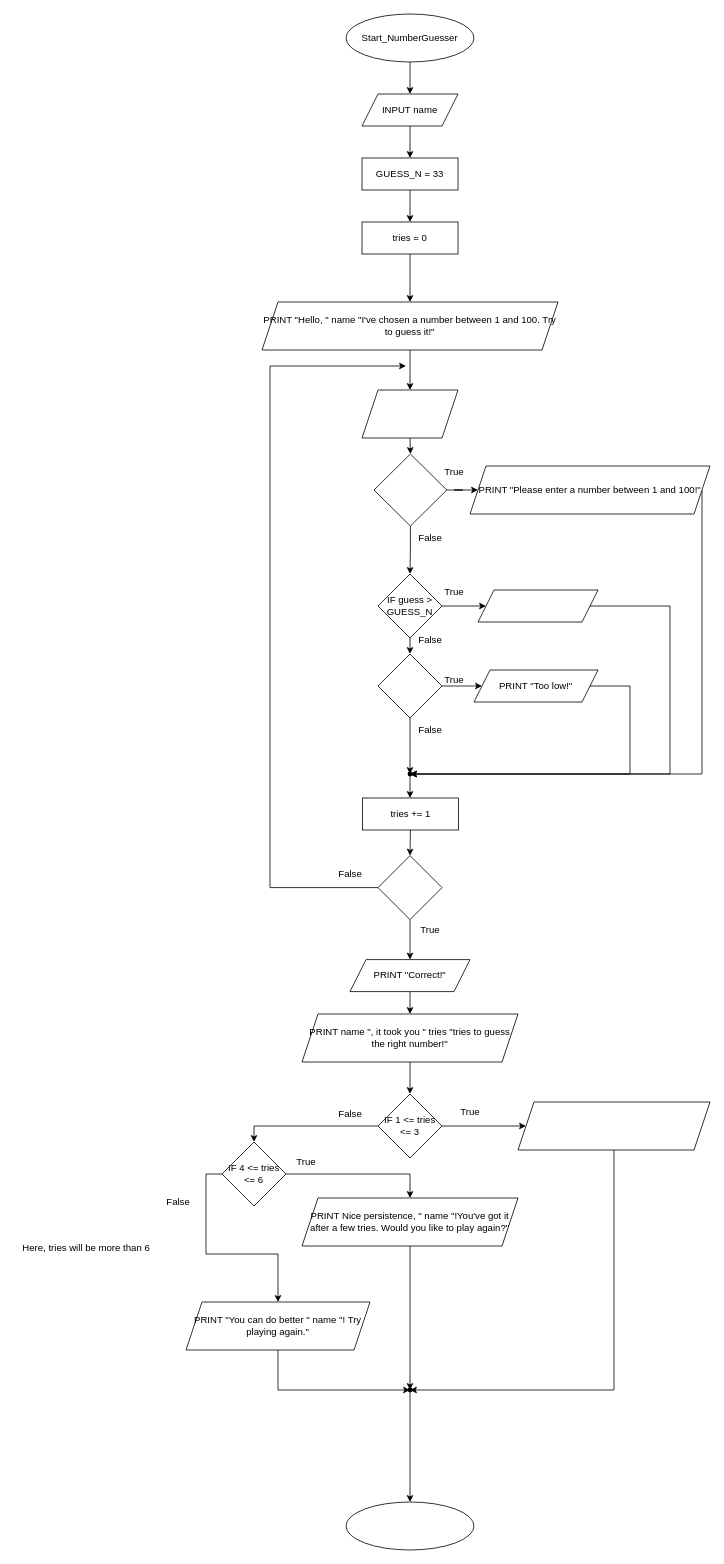
This 724x1564 diagram has some shape labels left out. Here are the shapes that lost their labels. From the top down, the centre of each, then its label:
point (409, 413): INPUT guess
point (410, 489): IF not(1 <= guess <= 100)
point (537, 605): PRINT "Too high!"
point (409, 685): IF guess < GUESS_N
point (409, 887): IF guess == guessNum
point (613, 1125): PRINT "Amazing guessing skills, " name "! Would you like to play again?"
point (409, 1525): End_NumberGuesser
